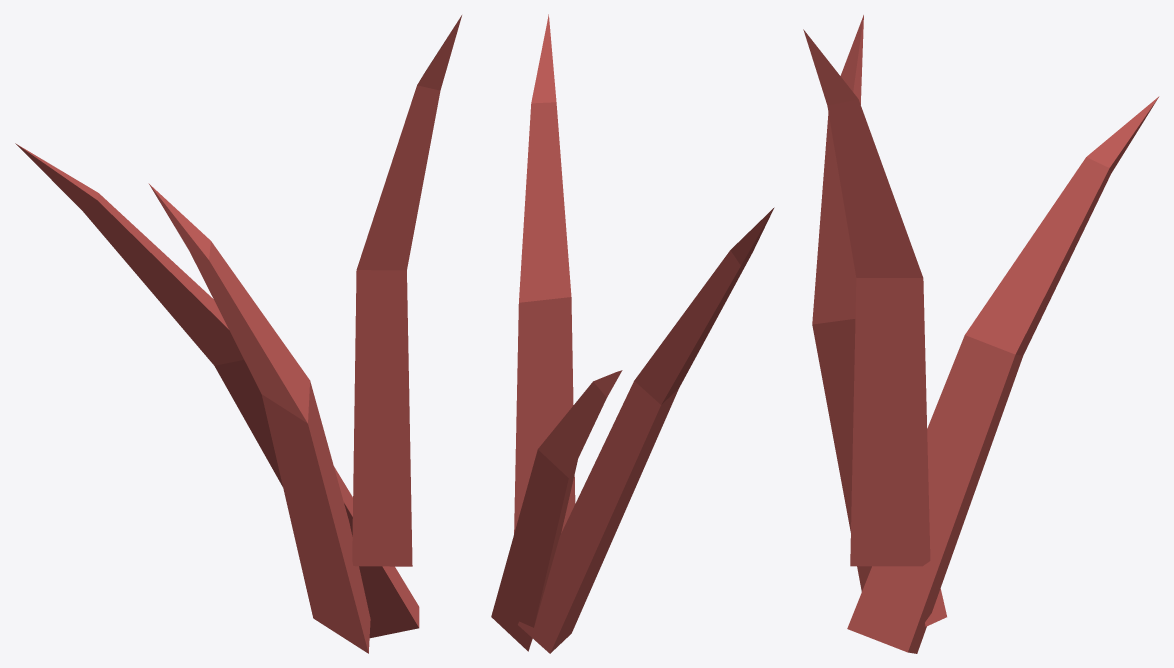
The model's file is plantherbe_3.fbx.
The picture shows the model from 3 angles, left to right: view 1: azimuth 30°, elevation 25°; view 2: azimuth 150°, elevation 25°; view 3: azimuth 270°, elevation 25°; orthographic projection. The views are drawn at different scales.
Visible parts, largest first — view 1: SmallAlienGrass1; view 2: SmallAlienGrass1; view 3: SmallAlienGrass1.
Boxes of the visible parts, left/top/right/bottom form: SmallAlienGrass1: left=15, top=15, right=461, bottom=653; SmallAlienGrass1: left=491, top=14, right=774, bottom=653; SmallAlienGrass1: left=803, top=15, right=1159, bottom=653.
Bounding box in the file's own units: 60.69 × 130 × 65.55.
